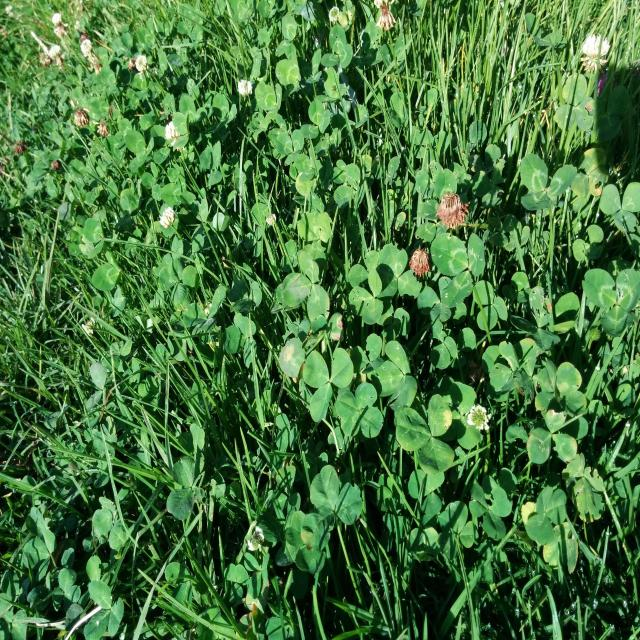Four Leaf Clover: (335, 382, 384, 438)
